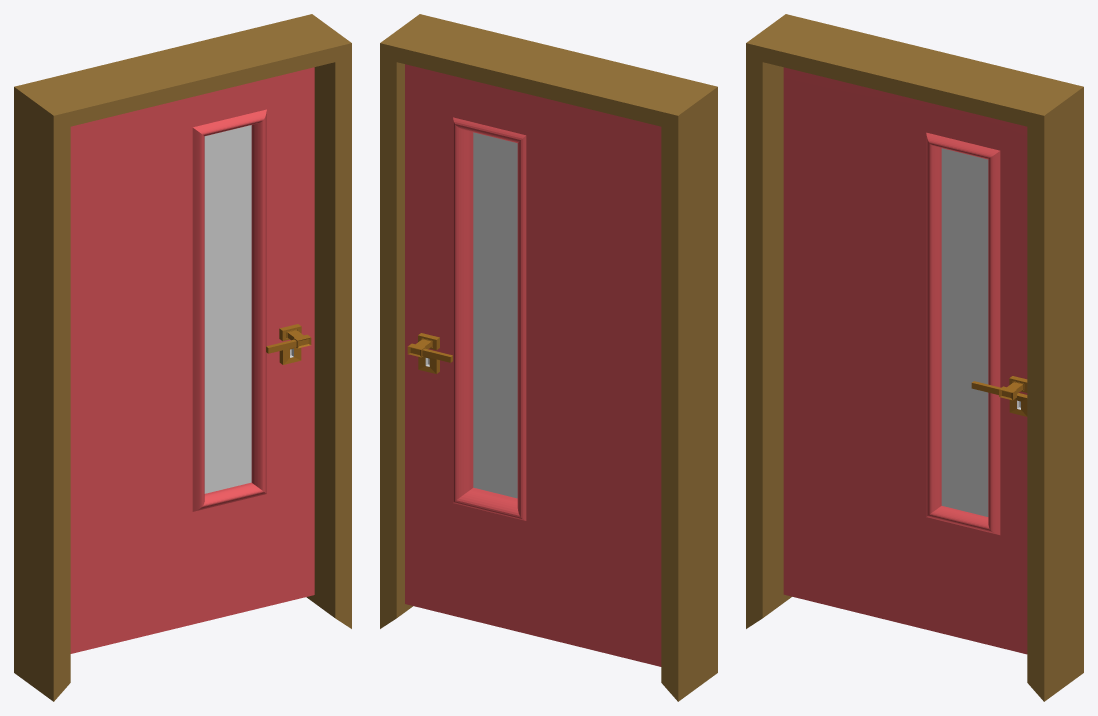
The model's file is window_door.glb.
The picture shows the model from 3 angles, left to right: view 1: azimuth 30°, elevation 25°; view 2: azimuth 150°, elevation 25°; view 3: azimuth 330°, elevation 25°; orthographic projection.
Visible parts, largest first — view 1: Plane.004_Plane.003, Plane.008_Plane.005, Plane.002, Plane.003_Plane.004; view 2: Plane.004_Plane.003, Plane.008_Plane.005, Plane.002, Plane.006_Plane.007; view 3: Plane.004_Plane.003, Plane.008_Plane.005, Plane.002, Plane.003_Plane.004.
Part boxes in pixels (x1,y1,x2,y2): Plane.004_Plane.003: (70,67,314,653); Plane.008_Plane.005: (14,14,351,701); Plane.002: (204,125,251,493); Plane.003_Plane.004: (266,324,311,353); Plane.004_Plane.003: (405,64,661,666); Plane.008_Plane.005: (380,14,717,701); Plane.002: (473,132,517,498); Plane.006_Plane.007: (407,333,452,362); Plane.004_Plane.003: (783,67,1027,654); Plane.008_Plane.005: (746,14,1083,701); Plane.002: (941,148,988,516); Plane.003_Plane.004: (971,376,1027,400).
Size of the model in its own units: 2.3 by 4.33 by 0.6362.
